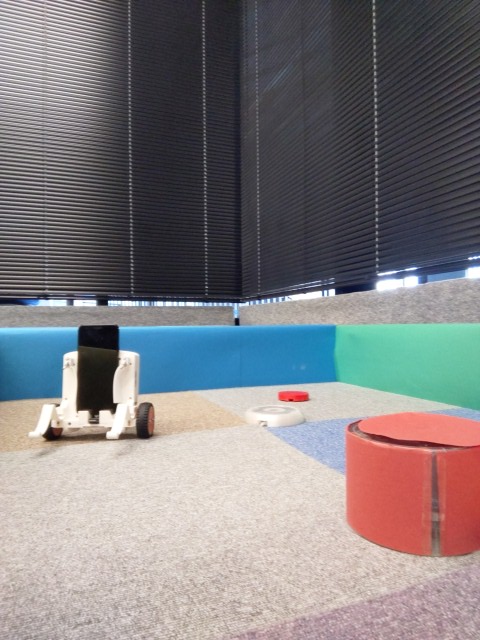f: (30, 318, 156, 445)
o: (243, 403, 306, 429)
